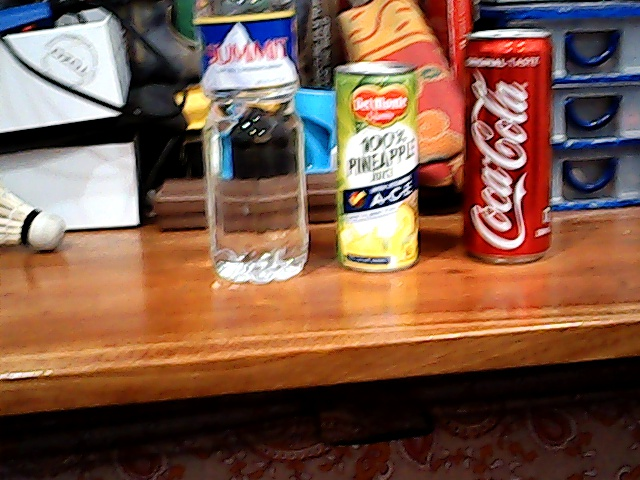Cola: (452, 19, 559, 271)
Pine Juice: (328, 57, 431, 278)
Summit Water: (195, 1, 312, 288)
